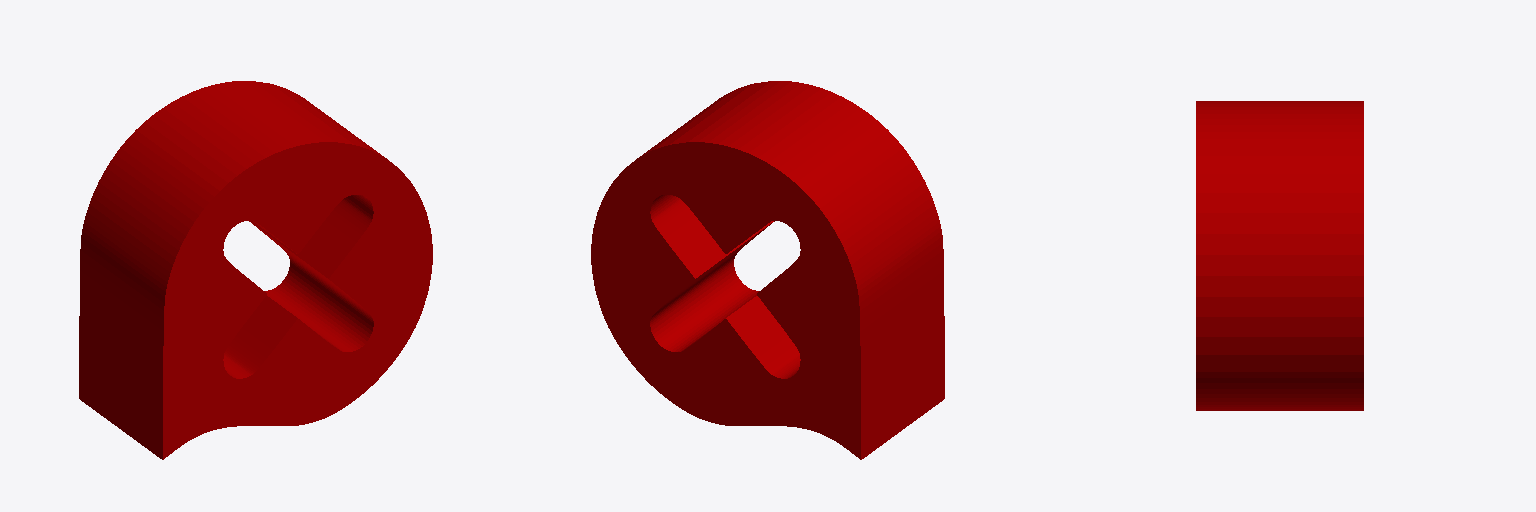
Rendered from not_ok_blender.obj.
The picture shows the model from 3 angles: view 1: azimuth 30°, elevation 25°; view 2: azimuth 150°, elevation 25°; view 3: azimuth 270°, elevation 25°; orthographic projection.
Parts seen in each view (by area): view 1: path3726; view 2: path3726; view 3: path3726.
Part boxes in pixels (x1,y1,x2,y2): path3726: (79,81,432,459); path3726: (591,81,944,459); path3726: (1196,101,1363,410).
Bounding box in the file's own units: 1.86 × 1.85 × 1.